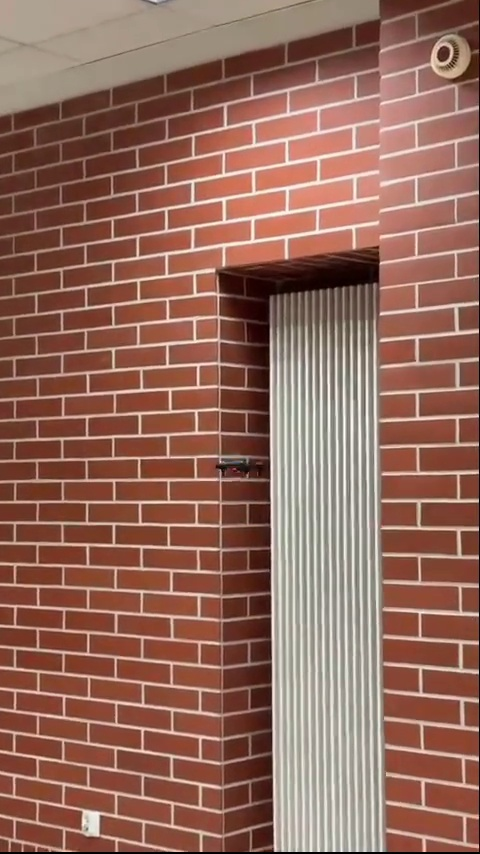drone: (216, 454, 272, 484)
